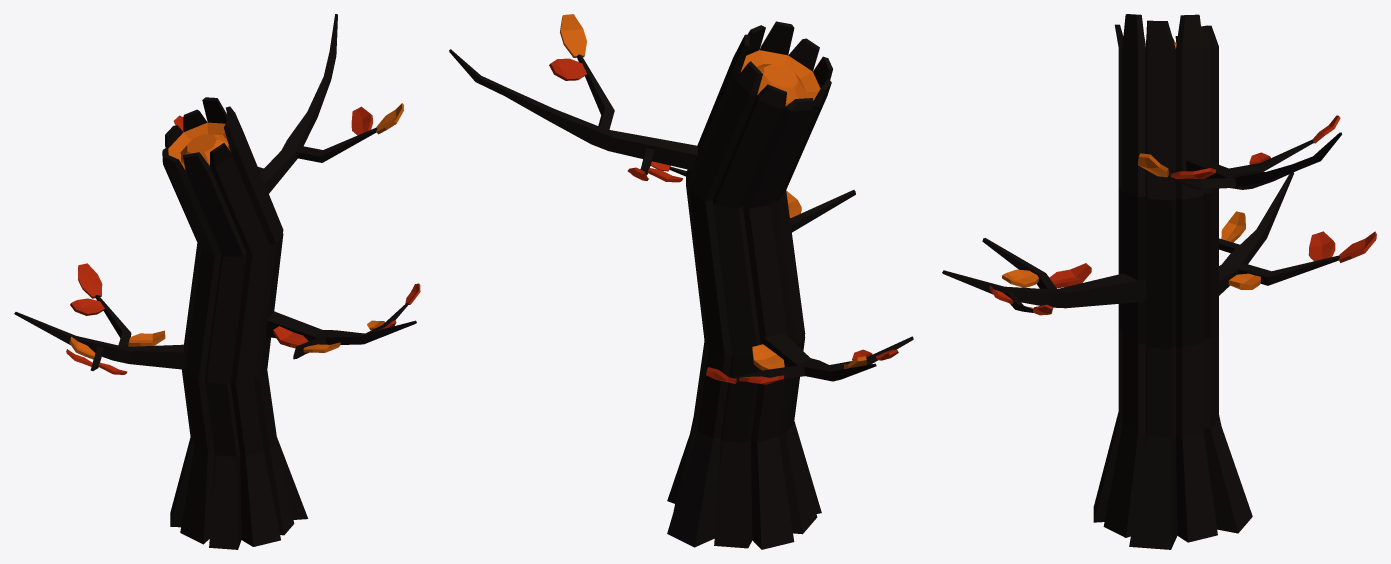
File: Broken_Tree_Autumn.obj
The picture shows the model from 3 angles, left to right: view 1: azimuth 30°, elevation 25°; view 2: azimuth 150°, elevation 25°; view 3: azimuth 270°, elevation 25°; orthographic projection. The views are drawn at different scales.
Visible parts, largest first — view 1: Broken_Tree_Autumn_Cylinder.034; view 2: Broken_Tree_Autumn_Cylinder.034; view 3: Broken_Tree_Autumn_Cylinder.034.
Boxes of the visible parts, x1,y1,x2,y2 form: Broken_Tree_Autumn_Cylinder.034: (14, 14, 420, 549); Broken_Tree_Autumn_Cylinder.034: (449, 14, 913, 549); Broken_Tree_Autumn_Cylinder.034: (942, 14, 1376, 549).
Bounding box in the file's own units: 2.92 × 3.41 × 2.73.
